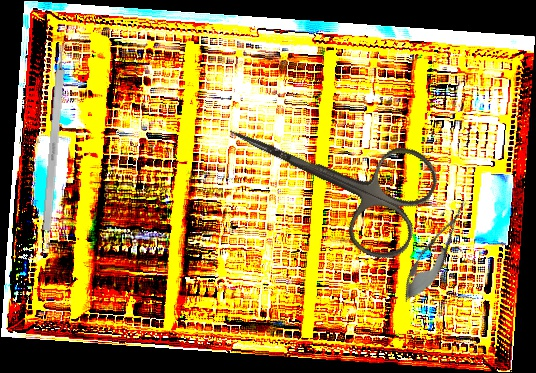Hook Surgical: (41, 32, 69, 231)
Iris Scissors: (206, 76, 446, 270)
Micro Scissor: (394, 192, 478, 310)
